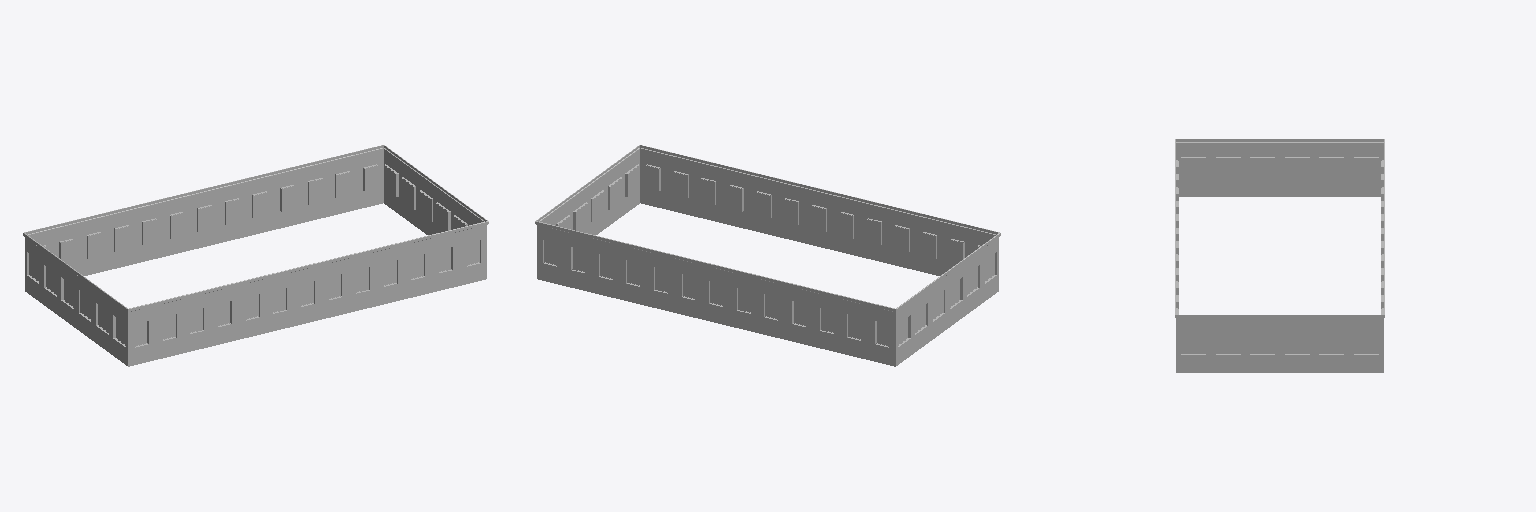
Rendered from BuildingBase_2x1_A.obj.
3 renders of one model, left to right at view 1: azimuth 30°, elevation 25°; view 2: azimuth 150°, elevation 25°; view 3: azimuth 270°, elevation 25°, orthographic.
Visible parts, largest first — view 1: 2x1_FloorBase_Cube.016, 2x1_FloorBase.002_Cube.011, 2x1_FloorBase.001_Cube.003; view 2: 2x1_FloorBase_Cube.016, 2x1_FloorBase.002_Cube.011, 2x1_FloorBase.001_Cube.003; view 3: 2x1_FloorBase_Cube.016, 2x1_FloorBase.002_Cube.011.
Part boxes in pixels (x1,y1,x2,y2): 2x1_FloorBase_Cube.016: (23,145,488,366); 2x1_FloorBase.002_Cube.011: (29,165,478,345); 2x1_FloorBase.001_Cube.003: (31,165,479,346); 2x1_FloorBase_Cube.016: (535,145,1000,366); 2x1_FloorBase.002_Cube.011: (545,165,994,345); 2x1_FloorBase.001_Cube.003: (544,165,992,346); 2x1_FloorBase_Cube.016: (1175,139,1384,372); 2x1_FloorBase.002_Cube.011: (1181,158,1378,353).
Size of the model in its own units: 4.02 by 0.6189 by 2.02.